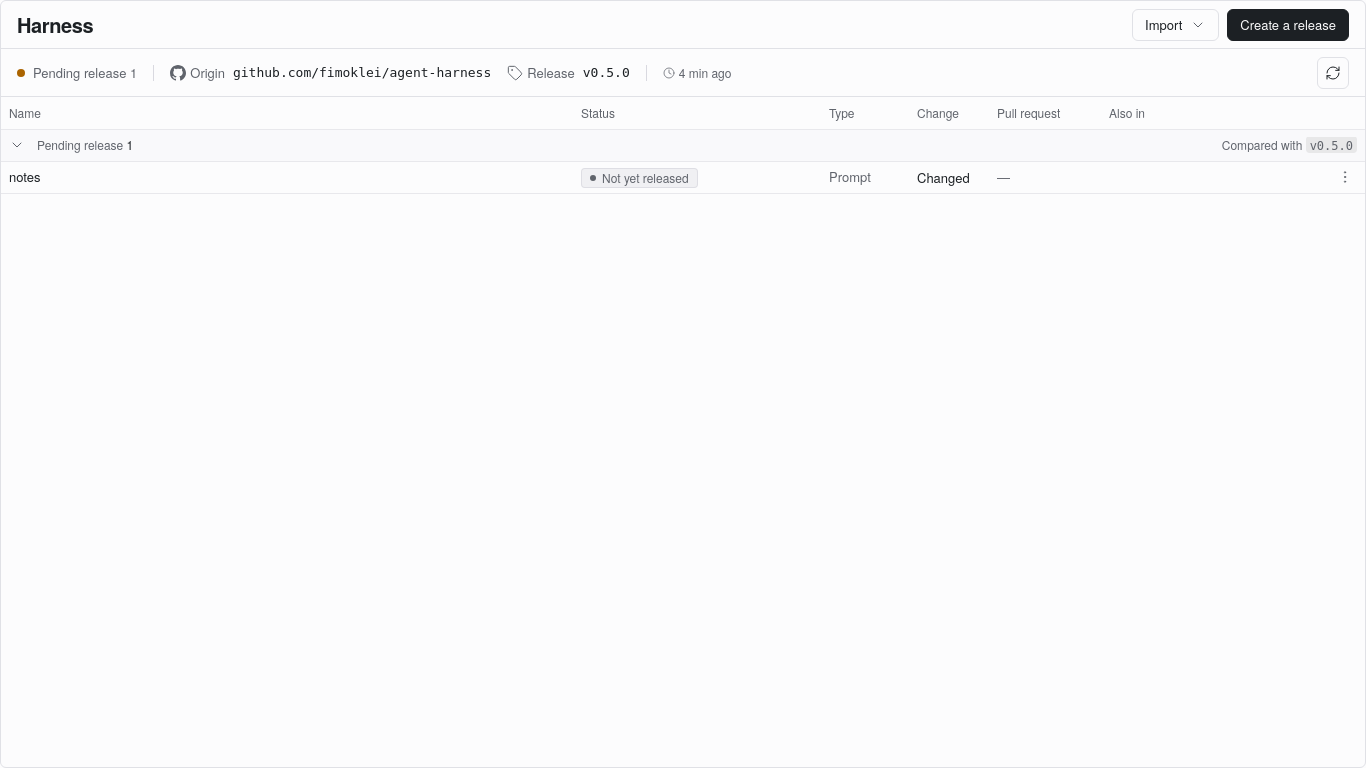
Test: Harness confirmation facts › withdraw from release › states the item and the path it replaces, under its siblings' labels
This screenshot has width=1366, height=768.
Click the button named "Actions for notes prompt in Pending release": point(1345, 176) [1333,164,1357,188]
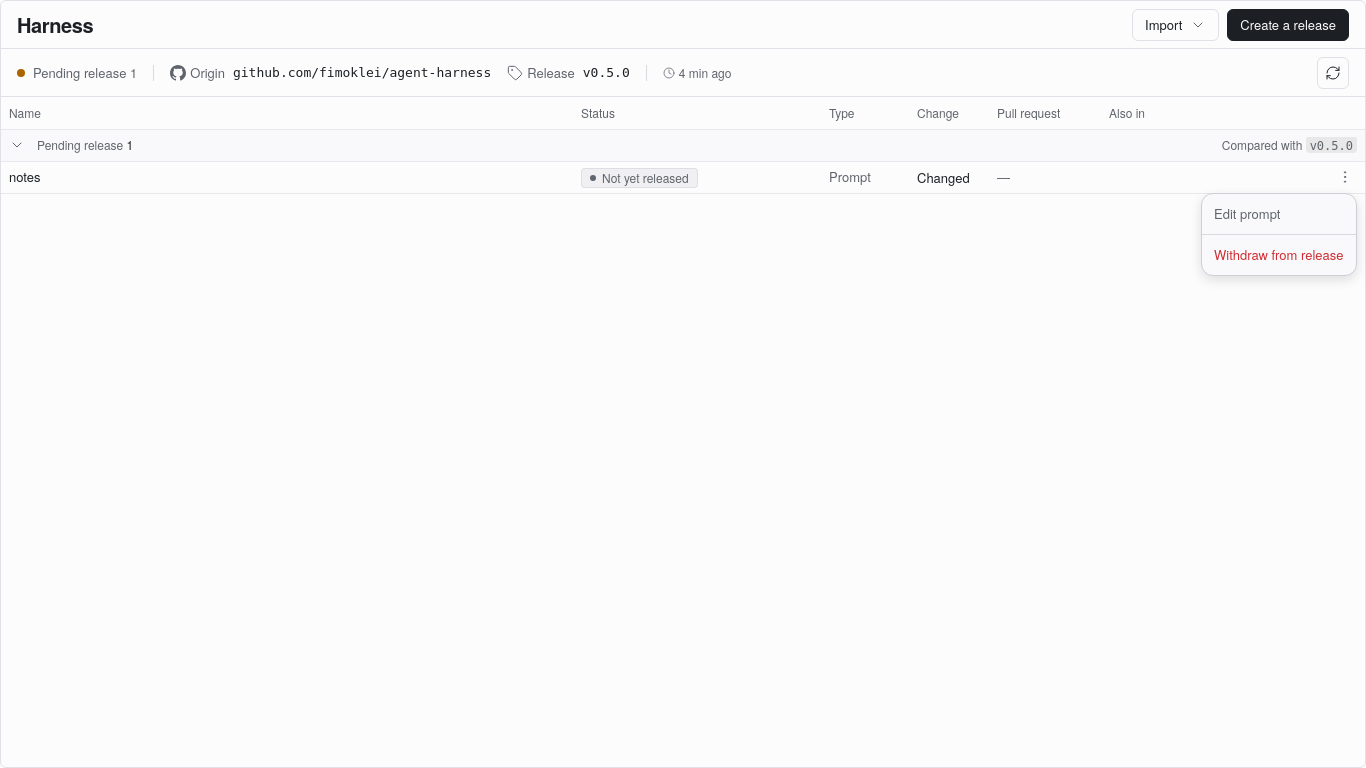
Click the menu item "Withdraw from release": point(1279, 254) [1214,245,1344,264]
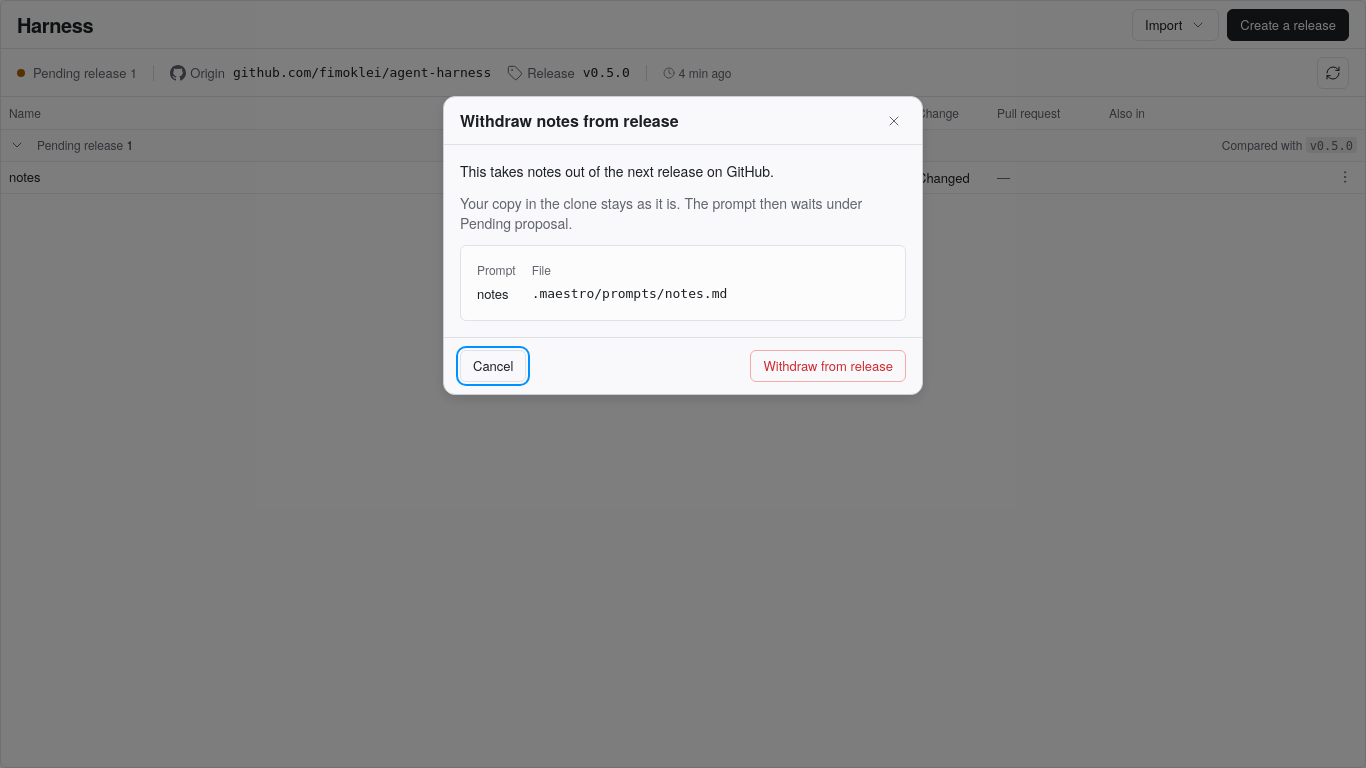
Expected: the text "notes" next to ".maestro/prompts/notes.md" is shown, [477,284,508,303]
Expected: the text ".maestro/prompts/notes.md" is shown, [532,284,727,304]
